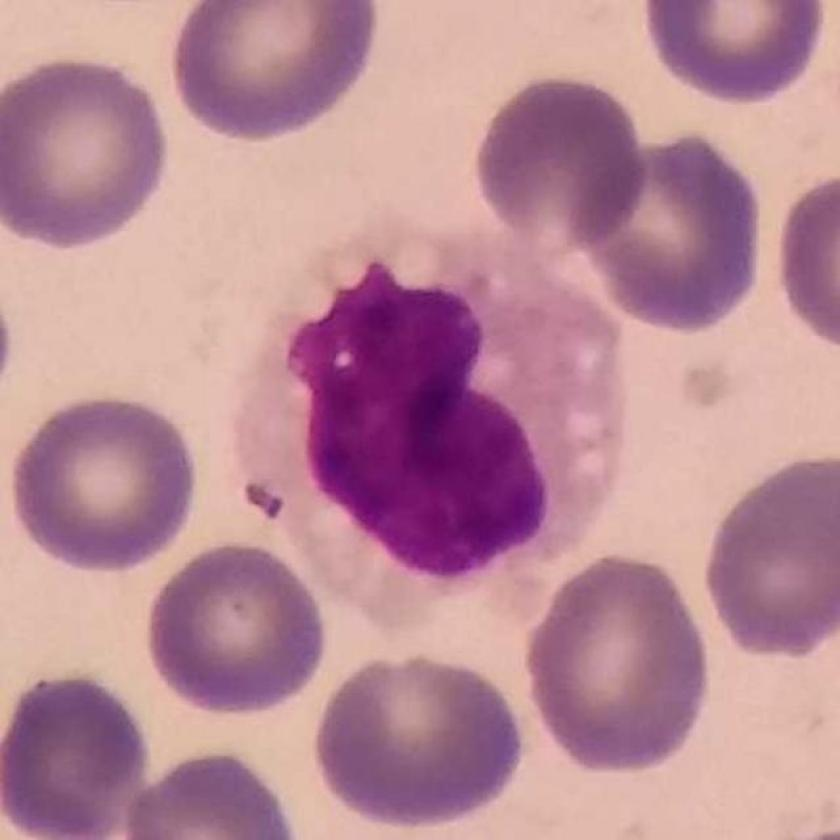monocyte: (238, 199, 642, 655)
